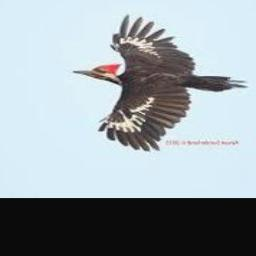Woodpecker: (75, 14, 249, 150)
